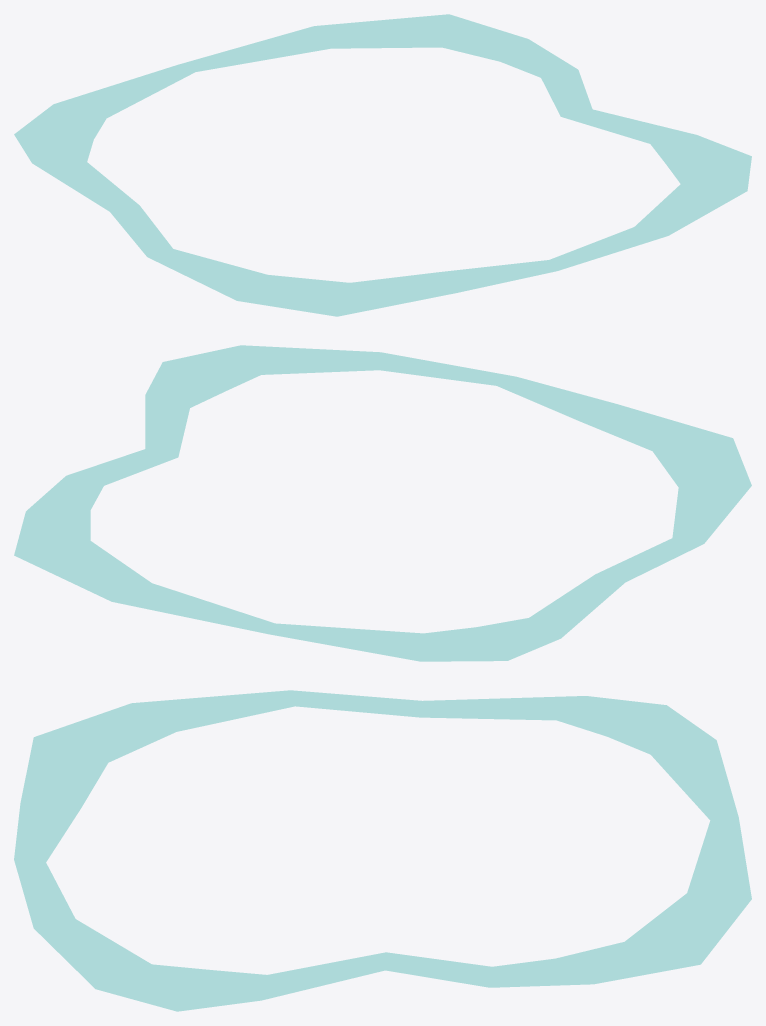
Rendered from wavewall_mesa_02.fbx.
The picture shows the model from 3 angles, top to bottom: view 1: azimuth 30°, elevation 25°; view 2: azimuth 150°, elevation 25°; view 3: azimuth 270°, elevation 25°; orthographic projection. The views are drawn at different scales.
Visible parts, largest first — view 1: obj0.110; view 2: obj0.110; view 3: obj0.110.
Part boxes in pixels (left/top/right/bottom): obj0.110: left=14, top=14, right=751, bottom=316; obj0.110: left=14, top=345, right=751, bottom=661; obj0.110: left=14, top=690, right=751, bottom=1011.
Bounding box in the file's own units: 13.02 × 0.000401 × 12.63.
